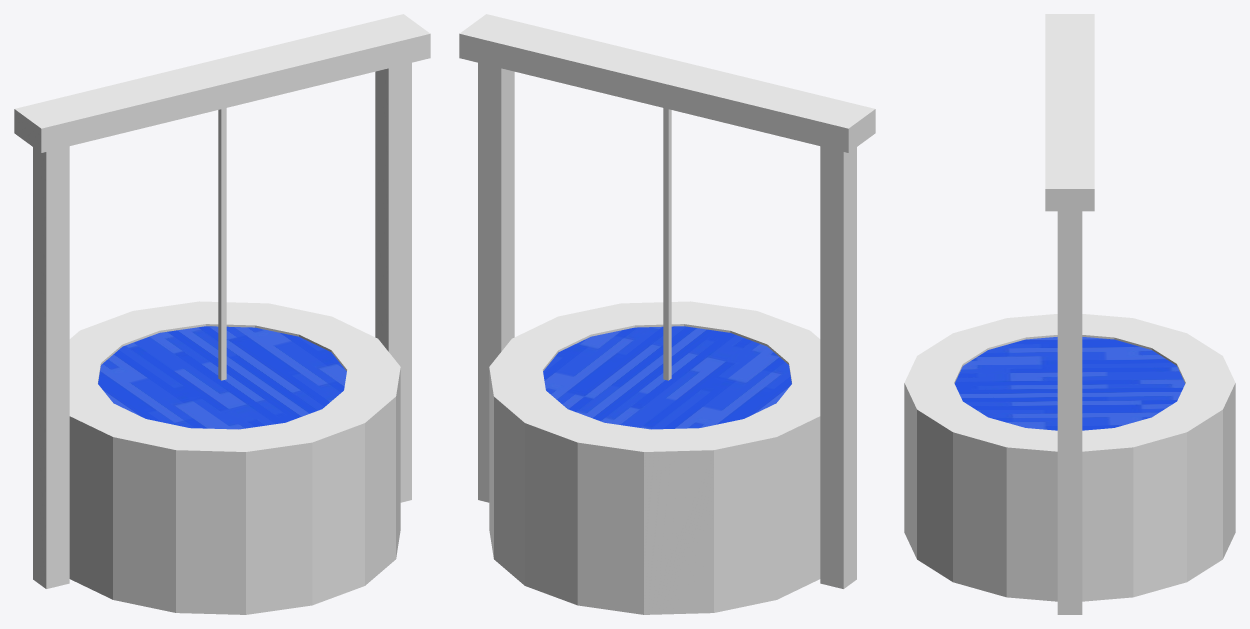
Rendered from Pozo.fbx.
3 renders of one model, left to right at view 1: azimuth 30°, elevation 25°; view 2: azimuth 150°, elevation 25°; view 3: azimuth 270°, elevation 25°, orthographic. The views are drawn at different scales.
Visible parts, largest first — view 1: Pozo, Postes, Agua; view 2: Pozo, Postes, Agua; view 3: Pozo, Postes, Agua.
Part boxes in pixels (<box>): Pozo: <box>69,301,400,614</box>; Postes: <box>14,14,430,588</box>; Agua: <box>98,326,346,429</box>; Pozo: <box>489,301,820,614</box>; Postes: <box>459,14,875,588</box>; Agua: <box>543,326,791,429</box>; Pozo: <box>904,314,1235,601</box>; Postes: <box>1045,14,1094,614</box>; Agua: <box>954,337,1185,430</box>.
Size of the model in its own units: 250 by 289 by 200.
Materials: 3 (1 with a texture image).
